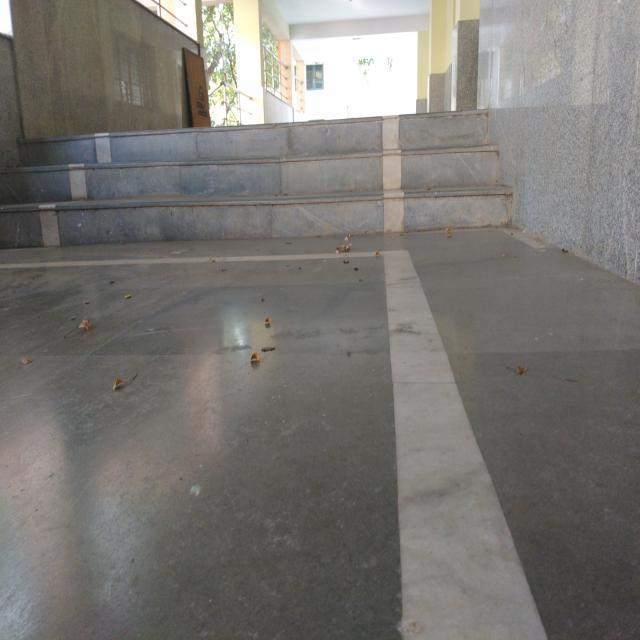stair: (53, 115, 511, 258)
